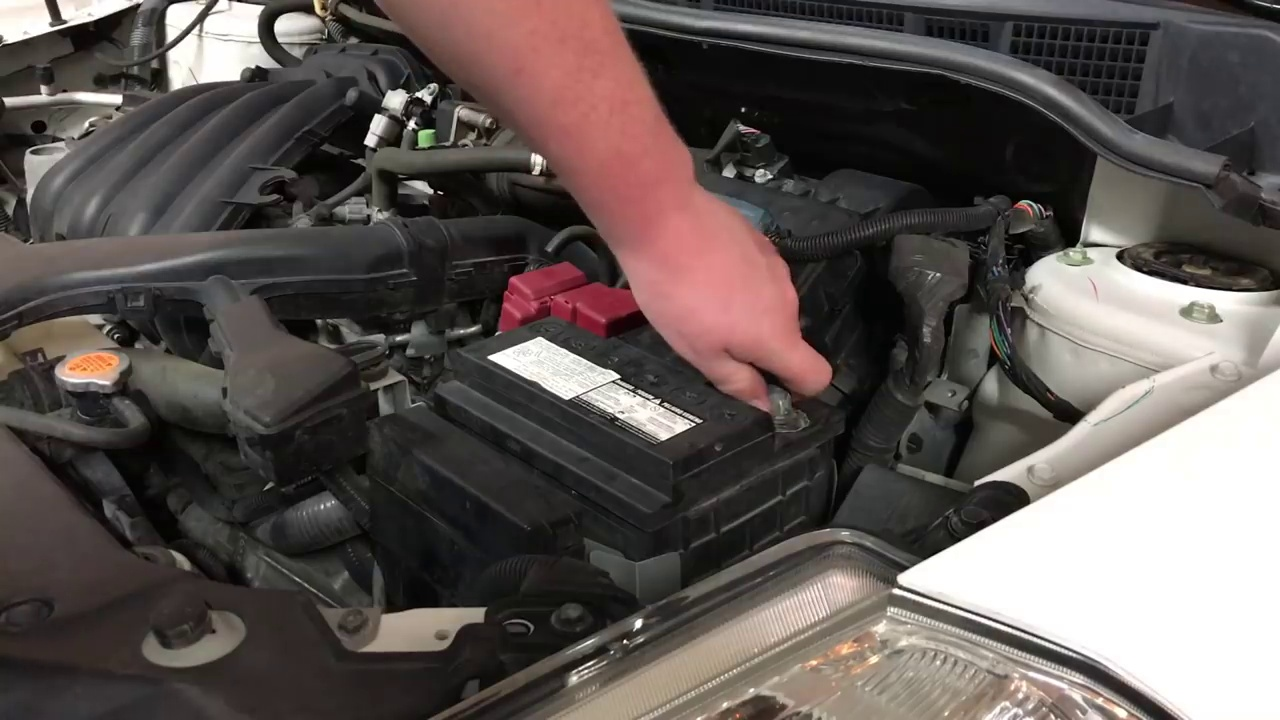neg_touched: (688, 295, 832, 452)
pos_connected: (496, 256, 644, 350)
